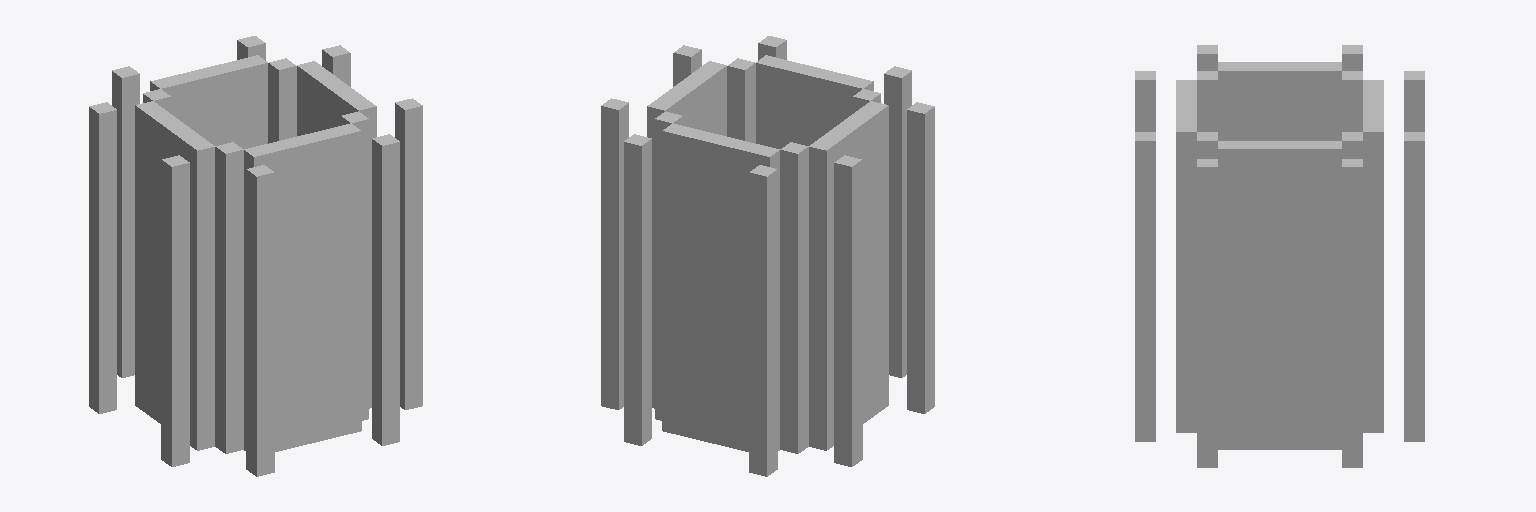
File: reactorCellMiddle.obj
3 views of the same model, side by side, from view 1: azimuth 30°, elevation 25°; view 2: azimuth 150°, elevation 25°; view 3: azimuth 270°, elevation 25° (orthographic).
Parts seen in each view (by area): view 1: MiddlePBack, MiddlePRight, MiddleBackRight, OPBackRight, OPRightBack, OPLeftFront2, OPBackLeft, MiddlePFront, OPLeftBack, OPFrontRight, MiddlePLeft, MiddleBackLeft (+3 smaller); view 2: MiddlePFront, MiddlePRight, MiddleFrontRight, OPFrontRight, OPLeftFront2, OPRightBack, OPFrontLeft, MiddlePBack, OPLeftFront, OPBackRight, MiddlePLeft, MiddleFrontLeft (+3 smaller); view 3: MiddlePLeft, MiddlePRight, MiddlePBack, MiddlePFront, OPBackLeft, OPFrontLeft, OPLeftFront, OPLeftBack, MiddleFrontRight, OPFrontRight, MiddleBackRight, OPBackRight (+4 smaller).
Part boxes in pixels (x1,y1,x2,y2): MiddlePBack: (244, 123, 361, 451); MiddlePRight: (135, 101, 214, 450); MiddleBackRight: (215, 142, 243, 453); OPBackRight: (246, 165, 274, 476); OPRightBack: (161, 155, 189, 466); OPLeftFront2: (89, 102, 116, 413); OPBackLeft: (372, 134, 399, 445); MiddlePFront: (150, 55, 267, 148); OPLeftBack: (395, 98, 422, 409); OPFrontRight: (112, 66, 139, 377); MiddlePLeft: (297, 61, 376, 408); MiddleBackLeft: (341, 111, 368, 420); MiddlePFront: (662, 123, 779, 451); MiddlePRight: (809, 101, 888, 450); MiddleFrontRight: (780, 142, 808, 453); OPFrontRight: (749, 165, 777, 476); OPLeftFront2: (834, 155, 862, 466); OPRightBack: (907, 102, 934, 413); OPFrontLeft: (624, 134, 651, 445); MiddlePBack: (756, 55, 873, 148); OPLeftFront: (601, 98, 628, 409); OPBackRight: (884, 66, 911, 377); MiddlePLeft: (647, 61, 726, 408); MiddleFrontLeft: (655, 111, 682, 420); MiddlePLeft: (1218, 141, 1341, 449); MiddlePRight: (1218, 62, 1341, 140); MiddlePBack: (1176, 80, 1196, 432); MiddlePFront: (1363, 80, 1383, 432); OPBackLeft: (1135, 132, 1155, 441); OPFrontLeft: (1404, 132, 1424, 441); OPLeftFront: (1342, 159, 1362, 467); OPLeftBack: (1197, 159, 1217, 467); MiddleFrontRight: (1342, 71, 1362, 131); OPFrontRight: (1404, 71, 1424, 131); MiddleBackRight: (1197, 71, 1217, 131); OPBackRight: (1135, 71, 1155, 131).
Bounding box in the file's own units: 0.875 × 1 × 0.875.